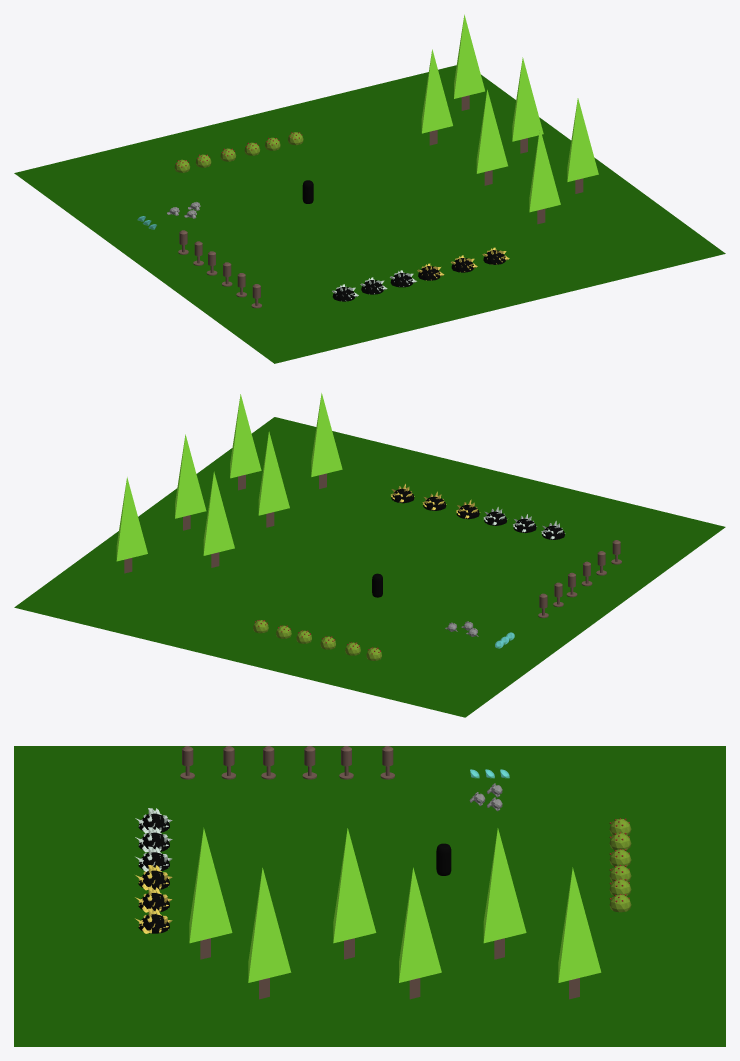
The model's file is TestWorld.glb.
3 views of the same model, one above another, from view 1: azimuth 30°, elevation 25°; view 2: azimuth 150°, elevation 25°; view 3: azimuth 270°, elevation 25° (orthographic). The views are drawn at different scales.
Parts seen in each view (by area): view 1: Grass, TreeLeaves.002, TreeLeaves, TreeLeaves.001, TreeLeaves.003, TreeLeaves.004, TreeLeaves.005; view 2: Grass, TreeLeaves.002, TreeLeaves.005, TreeLeaves, TreeLeaves.003, TreeLeaves.001, TreeLeaves.004; view 3: Grass, TreeLeaves.001, TreeLeaves.002, TreeLeaves.005, TreeLeaves, TreeLeaves.003, TreeLeaves.004.
Part boxes in pixels (box(x1,y1,x2,y2)): Grass: box(14, 65, 725, 363); TreeLeaves.002: box(421, 49, 452, 133); TreeLeaves: box(476, 89, 507, 173); TreeLeaves.001: box(529, 128, 560, 212); TreeLeaves.003: box(567, 98, 598, 181); TreeLeaves.004: box(512, 57, 543, 141); TreeLeaves.005: box(454, 14, 484, 98); Grass: box(14, 417, 725, 717); TreeLeaves.002: box(203, 471, 234, 555); TreeLeaves.005: box(116, 477, 147, 561); TreeLeaves: box(258, 431, 289, 515); TreeLeaves.003: box(230, 394, 261, 478); TreeLeaves.001: box(311, 393, 342, 476); TreeLeaves.004: box(175, 434, 206, 518); Grass: box(14, 746, 725, 1046); TreeLeaves.001: box(189, 827, 232, 943); TreeLeaves.002: box(483, 828, 526, 943); TreeLeaves.005: box(558, 867, 601, 982); TreeLeaves: box(333, 828, 376, 943); TreeLeaves.003: box(248, 867, 291, 982); TreeLeaves.004: box(399, 867, 441, 982).
Size of the model in its own units: 49.26 by 11.36 by 49.26.
10 materials, 1 textured.
